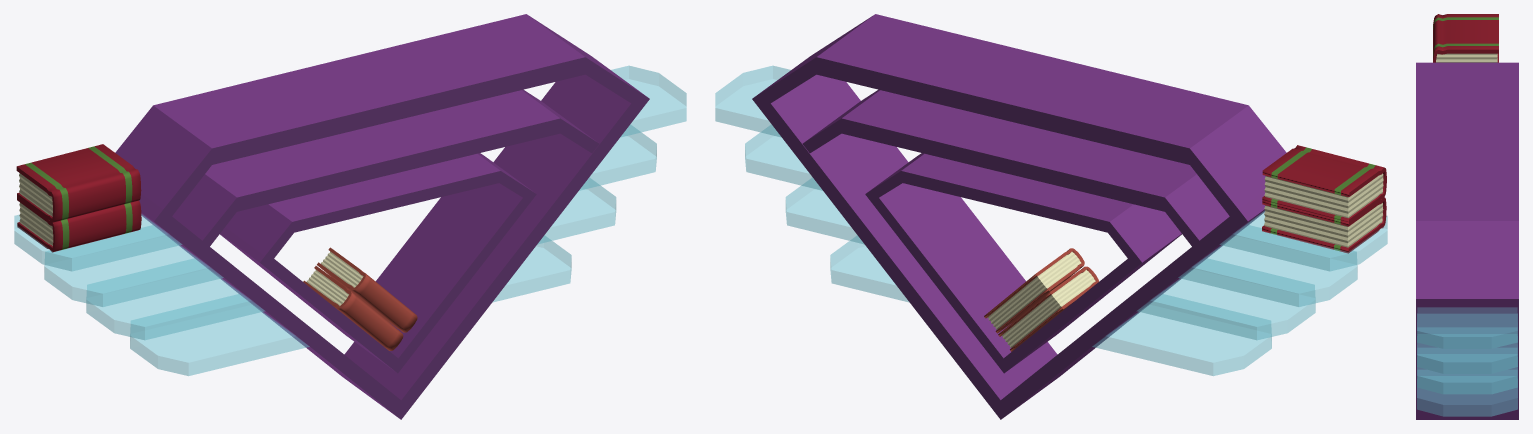
File: shelves_tier21.fbx
3 renders of one model, left to right at view 1: azimuth 30°, elevation 25°; view 2: azimuth 150°, elevation 25°; view 3: azimuth 270°, elevation 25°, orthographic. The views are drawn at different scales.
Parts seen in each view (by area): view 1: Cube, Cube.009, Cube.007, Cube.005, Cube.012, Cube.002, Cube.003, Cube.001, Cube.011, Cube.008, Cube.006, Cube.010 (+1 smaller); view 2: Cube, Cube.009, Cube.007, Cube.005, Cube.012, Cube.003, Cube.002, Cube.001, Cube.011, Cube.008, Cube.006, Cube.010 (+1 smaller); view 3: Cube, Cube.001, Cube.008, Cube.006, Cube.004, Cube.012.
Part boxes in pixels (x1,y1,x2,y2): Cube: (115, 14, 649, 419); Cube.009: (130, 294, 309, 375); Cube.007: (86, 258, 264, 340); Cube.005: (44, 225, 223, 306); Cube.012: (16, 144, 141, 222); Cube.002: (14, 214, 181, 271); Cube.003: (17, 196, 141, 252); Cube.001: (611, 65, 686, 137); Cube.011: (317, 247, 417, 332); Cube.008: (492, 235, 571, 302); Cube.006: (538, 178, 616, 244); Cube.010: (303, 266, 403, 350); Cube: (752, 14, 1286, 419); Cube.009: (1092, 294, 1271, 375); Cube.007: (1137, 258, 1315, 340); Cube.005: (1178, 225, 1357, 306); Cube.012: (1262, 145, 1386, 223); Cube.003: (1262, 197, 1386, 253); Cube.002: (1220, 211, 1387, 271); Cube.001: (715, 65, 790, 137); Cube.011: (984, 248, 1084, 333); Cube.008: (830, 235, 909, 302); Cube.006: (785, 178, 863, 244); Cube.010: (998, 266, 1098, 351); Cube: (1416, 62, 1518, 419); Cube.001: (1417, 307, 1517, 348); Cube.008: (1417, 376, 1517, 416); Cube.006: (1417, 354, 1517, 394); Cube.004: (1417, 334, 1517, 373); Cube.012: (1433, 14, 1498, 62).
Bounding box in the file's own units: 315 × 149 × 49.9.
